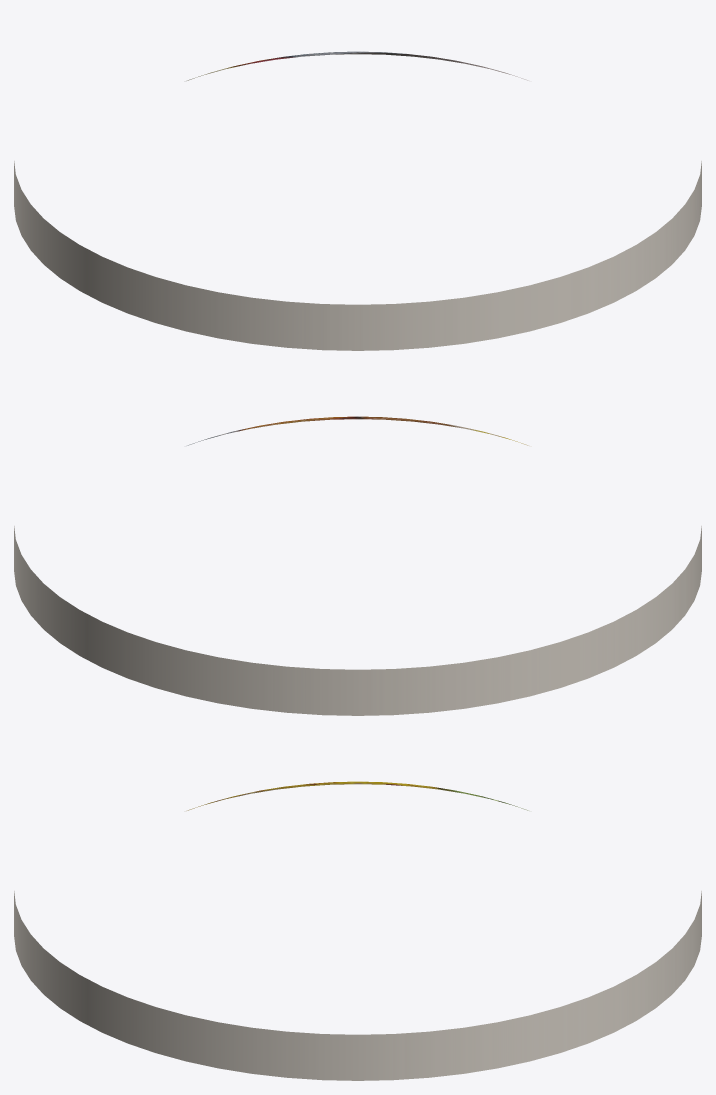
Rendered from seekh-kebab.glb.
3 views of the same model, one above another, from view 1: azimuth 30°, elevation 25°; view 2: azimuth 150°, elevation 25°; view 3: azimuth 270°, elevation 25° (orthographic).
Parts seen in each view (by area): view 1: seekh-kebab; view 2: seekh-kebab; view 3: seekh-kebab.
Part boxes in pixels (x1,y1,x2,y2): seekh-kebab: (14, 51, 701, 350); seekh-kebab: (14, 416, 701, 715); seekh-kebab: (14, 781, 701, 1080).
Bounding box in the file's own units: 0.27 × 0.0443 × 0.27.
Materials: 1 (1 with a texture image).
